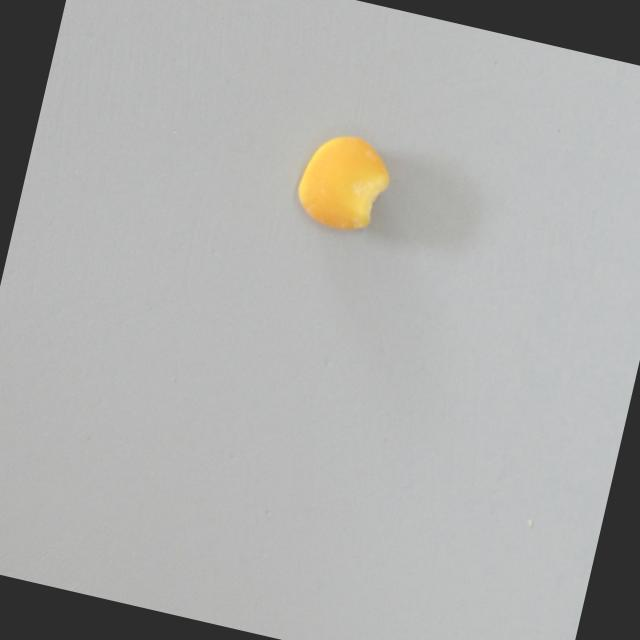no_canjicado: (275, 115, 409, 252)
